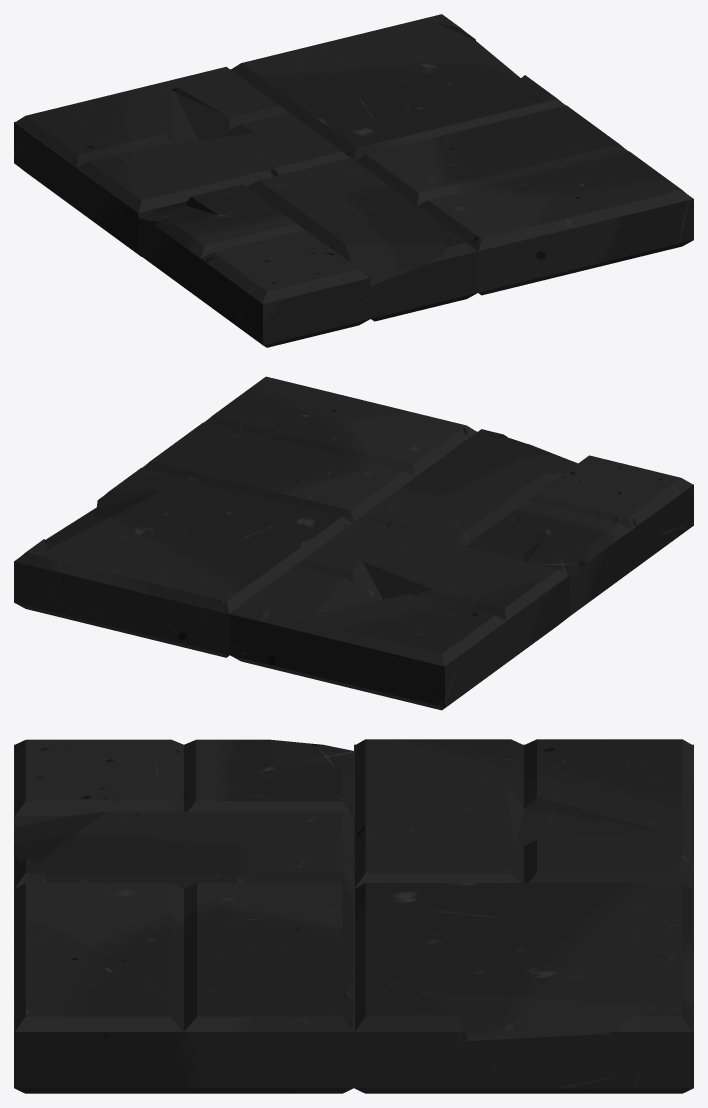
Rendered from gen_floor_9.fbx.
3 views of the same model, one above another, from view 1: azimuth 30°, elevation 25°; view 2: azimuth 150°, elevation 25°; view 3: azimuth 270°, elevation 25° (orthographic). The views are drawn at different scales.
Parts seen in each view (by area): view 1: gen_floor_9; view 2: gen_floor_9; view 3: gen_floor_9.
Boxes of the visible parts, x1,y1,x2,y2 form: gen_floor_9: [14, 14, 693, 347]; gen_floor_9: [14, 376, 693, 710]; gen_floor_9: [14, 739, 693, 1093].
Bounding box in the file's own units: 800 × 100 × 800.
